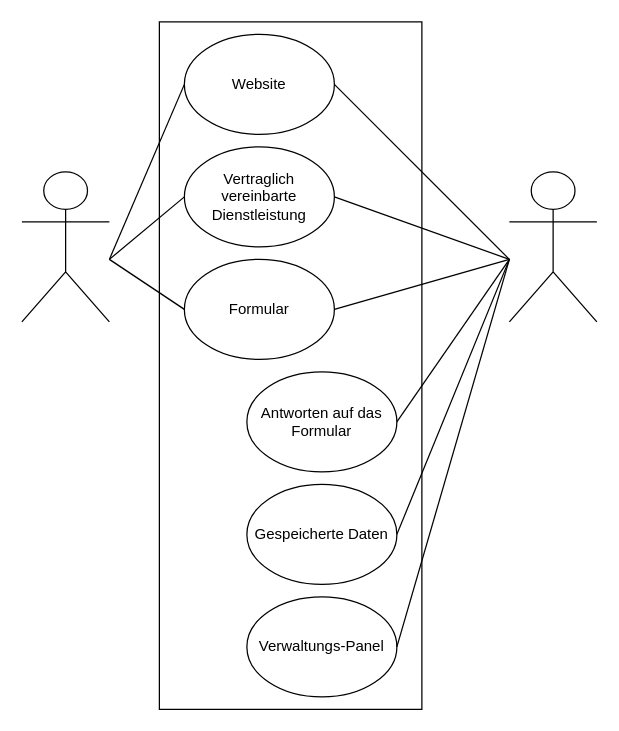
Image size: 619x731. Some labels were removed from this diagram. The shapes that lost their labels are listed below. From the top down, each one's centre as x and y in pixels, then its label:
At pixel 65 246: "Kunden".
At pixel 552 246: "Mitarbeiter".
